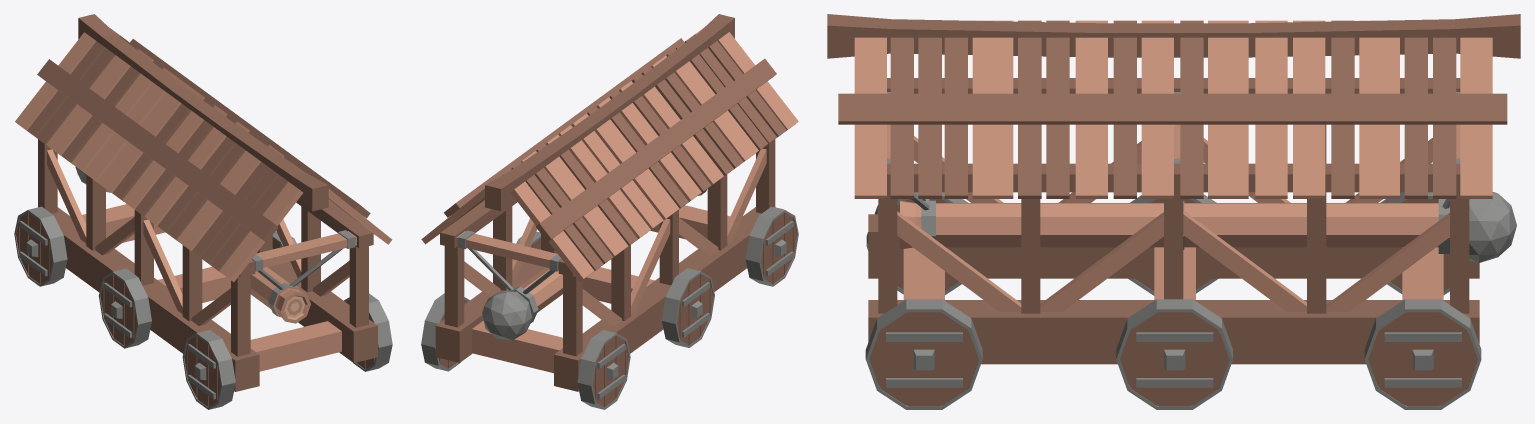
The model's file is ankers-low-poly-medieval-weapons--battering-ram.glb.
The picture shows the model from 3 angles, left to right: view 1: azimuth 30°, elevation 25°; view 2: azimuth 150°, elevation 25°; view 3: azimuth 270°, elevation 25°; orthographic projection. The views are drawn at different scales.
Parts seen in each view (by area): view 1: Battering Ram; view 2: Battering Ram; view 3: Battering Ram.
Part boxes in pixels (left/top/right/bottom): Battering Ram: left=14, top=14, right=392, bottom=409; Battering Ram: left=421, top=14, right=798, bottom=409; Battering Ram: left=827, top=14, right=1520, bottom=409.
Size of the model in its own units: 4.03 by 4.75 by 9.08.
